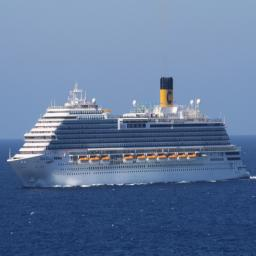cruises: (6, 77, 252, 195)
